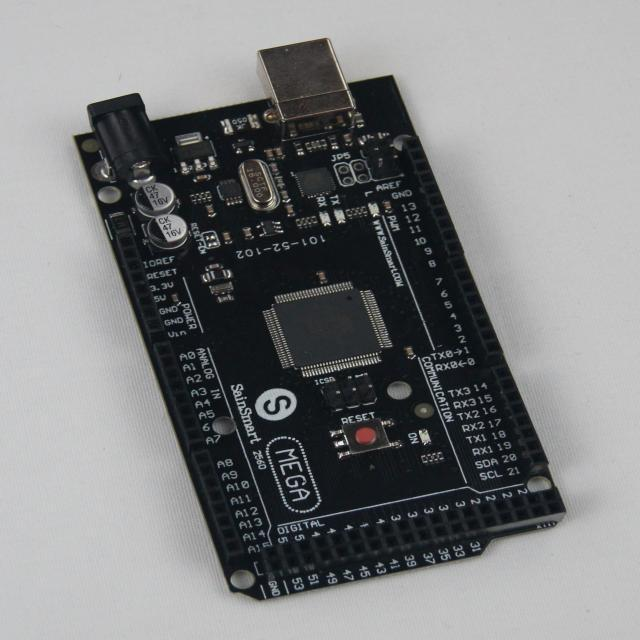Arduino Mega 2560 -Black-: (76, 41, 565, 600)
